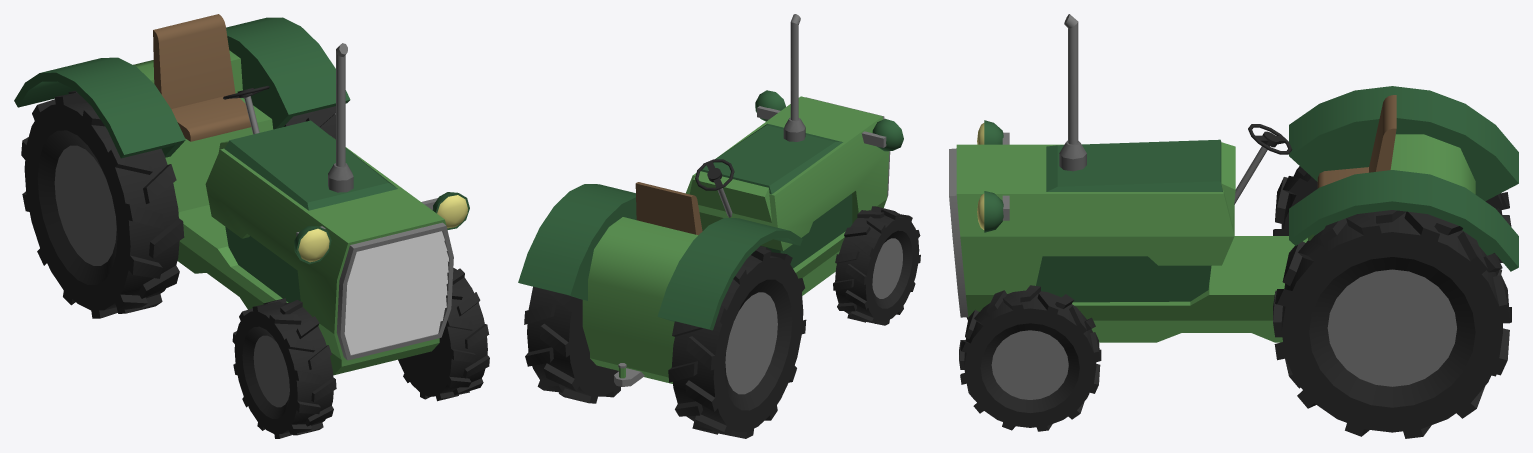
File: Tractor_01_01.fbx
3 views of the same model, side by side, from view 1: azimuth 30°, elevation 25°; view 2: azimuth 150°, elevation 25°; view 3: azimuth 270°, elevation 25° (orthographic). The views are drawn at different scales.
Parts seen in each view (by area): view 1: Tractor_01_01, Tractor_01_01_Stearing_Wheel; view 2: Tractor_01_01, Tractor_01_01_Stearing_Wheel; view 3: Tractor_01_01, Tractor_01_01_Stearing_Wheel.
Boxes of the visible parts, <box> form: Tractor_01_01: <box>14,14,489,438</box>; Tractor_01_01_Stearing_Wheel: <box>223,85,269,134</box>; Tractor_01_01: <box>518,14,920,438</box>; Tractor_01_01_Stearing_Wheel: <box>695,159,734,217</box>; Tractor_01_01: <box>949,14,1518,438</box>; Tractor_01_01_Stearing_Wheel: <box>1234,124,1292,204</box>.
Bounding box in the file's own units: 222 × 332 × 463.
